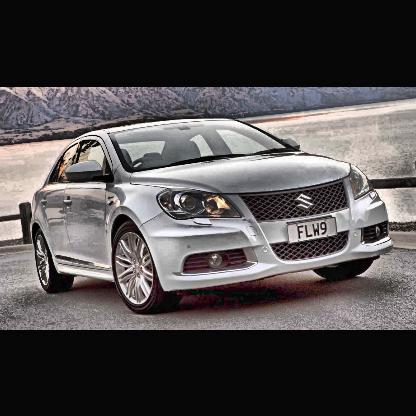Suzuki Kizashi Sedan 2012: (31, 119, 395, 313)
